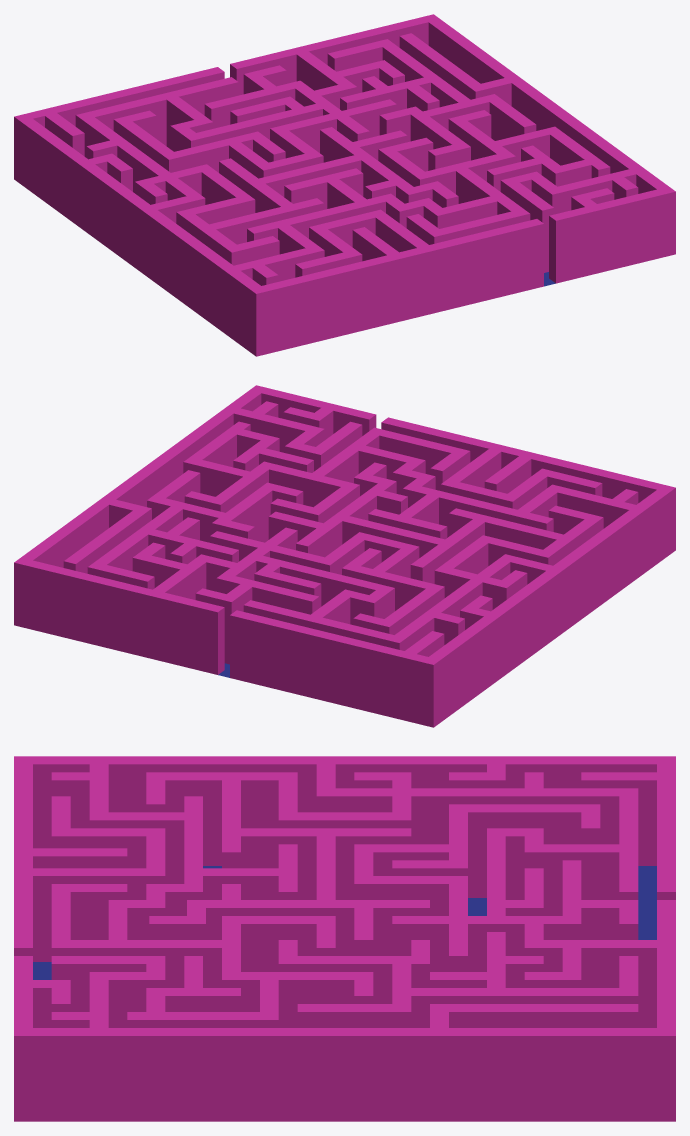
Rendered from Maze.fbx.
3 renders of one model, top to bottom at view 1: azimuth 30°, elevation 25°; view 2: azimuth 150°, elevation 25°; view 3: azimuth 270°, elevation 25°, orthographic. The views are drawn at different scales.
Parts seen in each view (by area): view 1: set_platform_01; view 2: set_platform_01; view 3: set_platform_01.
Part boxes in pixels (x1,y1,x2,y2): set_platform_01: (14,14,675,356); set_platform_01: (14,385,675,727); set_platform_01: (14,756,675,1121).
Size of the model in its own units: 1050 by 150 by 1050.
